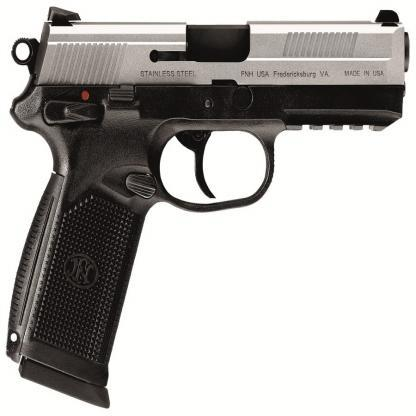gun: (6, 3, 416, 396)
